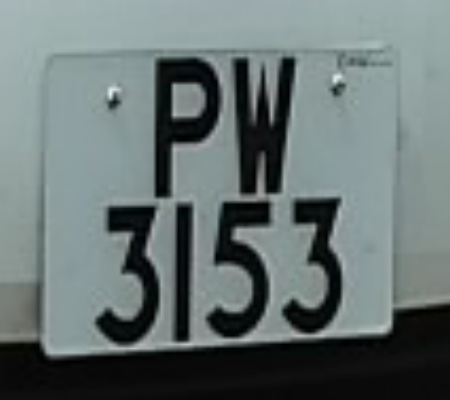1: (163, 199, 206, 347)
3: (87, 196, 167, 352), (279, 188, 361, 338)
5: (203, 197, 284, 342)
P: (132, 45, 231, 205)
W: (219, 44, 306, 202)
